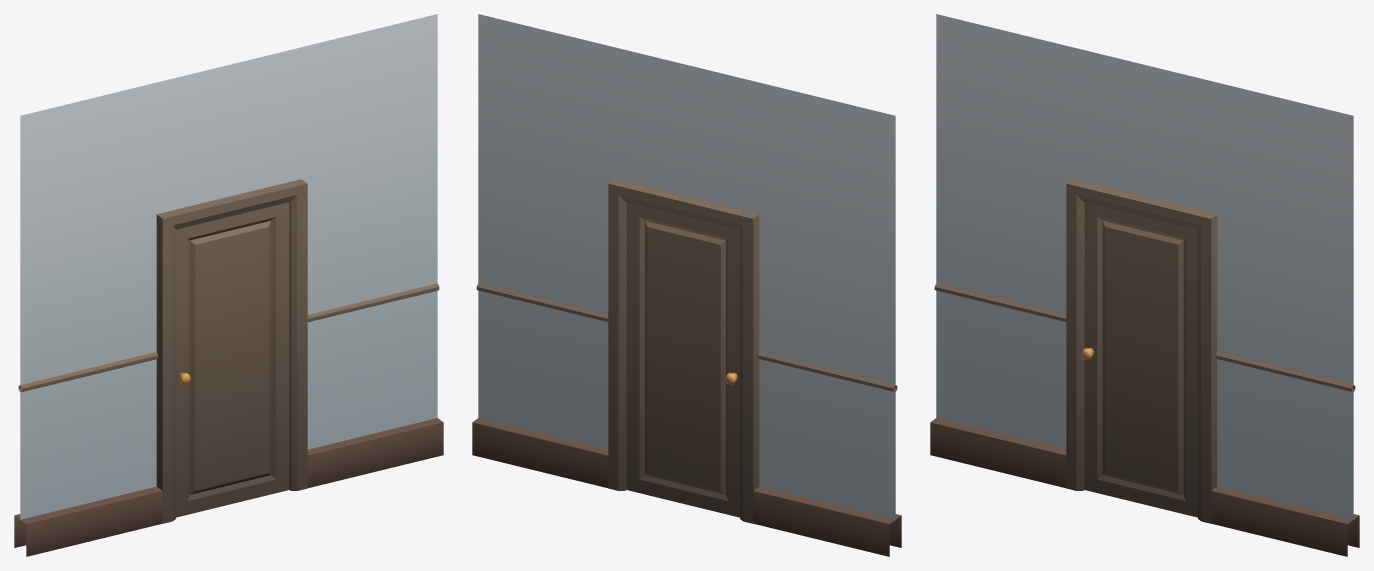
The model's file is Wall_door.fbx.
The picture shows the model from 3 angles, left to right: view 1: azimuth 30°, elevation 25°; view 2: azimuth 150°, elevation 25°; view 3: azimuth 330°, elevation 25°; orthographic projection.
Parts seen in each view (by area): view 1: Wall_door, Door; view 2: Wall_door, Door; view 3: Wall_door, Door.
Part boxes in pixels (bbox=[...]): Wall_door: bbox=[14, 14, 443, 556]; Door: bbox=[176, 202, 289, 517]; Wall_door: bbox=[472, 14, 901, 556]; Door: bbox=[626, 202, 739, 517]; Wall_door: bbox=[930, 14, 1359, 556]; Door: bbox=[1081, 202, 1197, 517].
Bounding box in the file's own units: 300 × 300 × 22.2.
